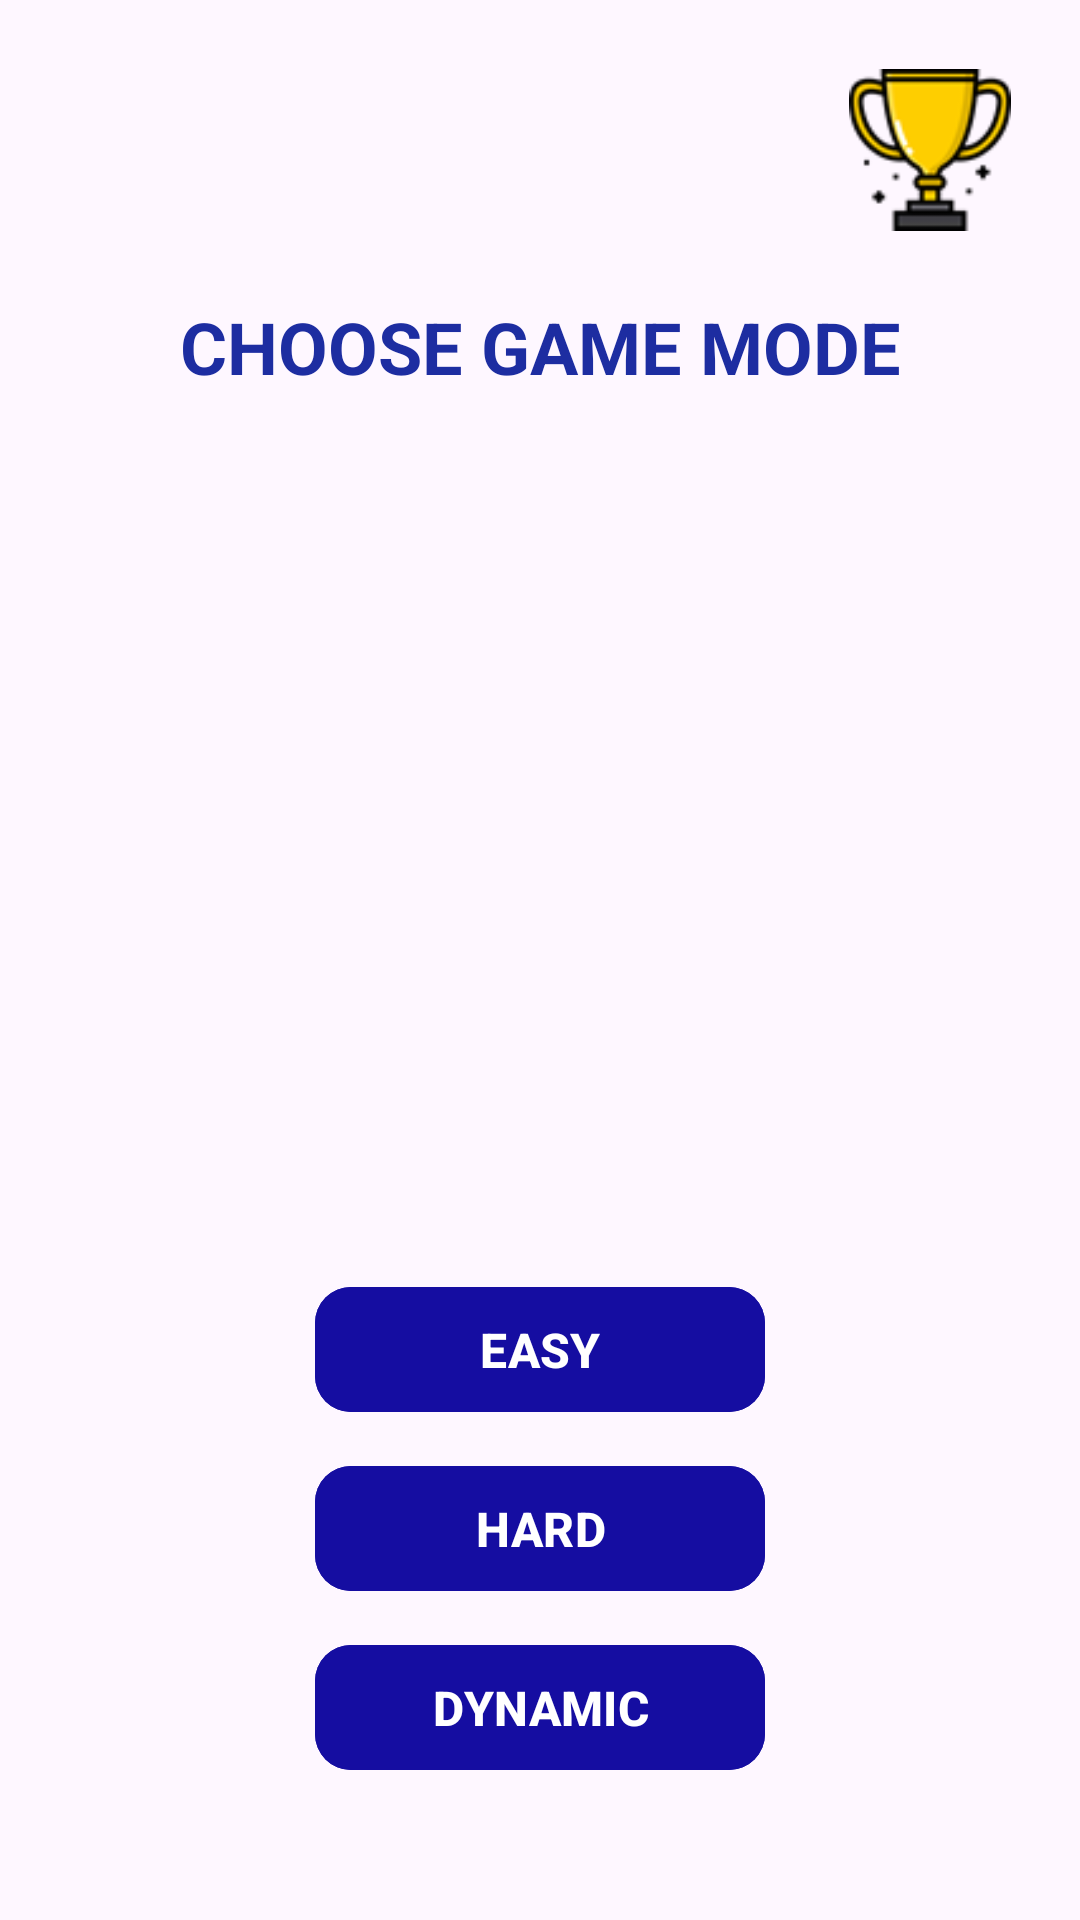

Icon bounding boxes for this 1080 × 1920 phone screenshot, format (x1, y1, x2, y2):
Top Ten: (849, 69, 1011, 231)
